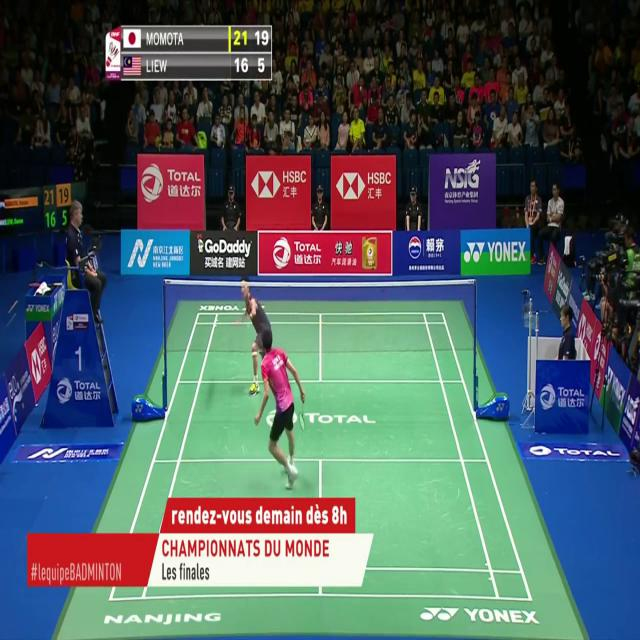Shuttlecock: (215, 131, 221, 143)
